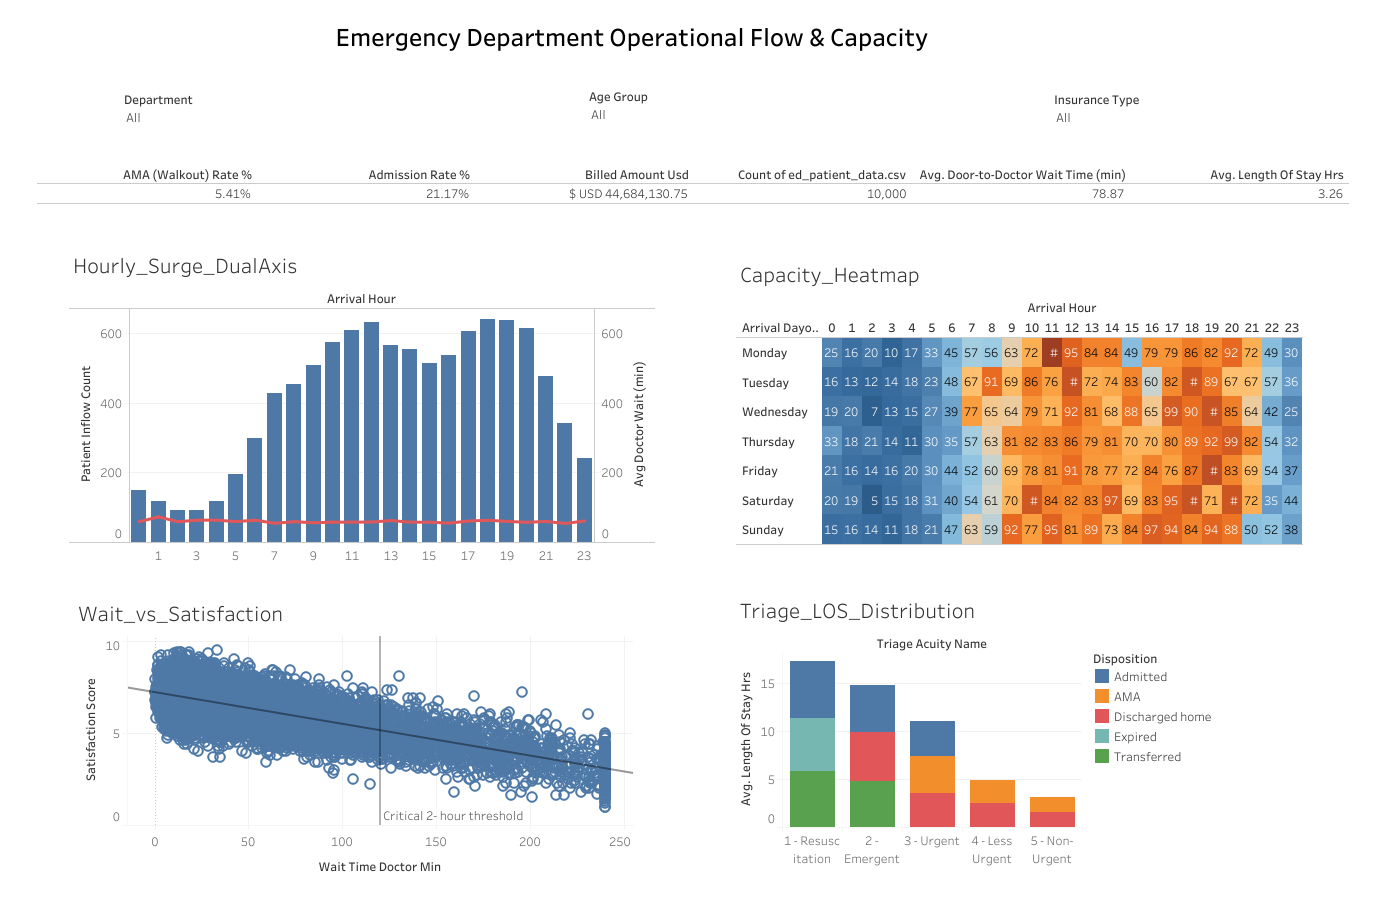

What the dashboard file says about the page in this screenshot:
{"tool":"tableau","page":{"name":"Dashboard 1","canvas":[1400,900],"ordinal":0},"visuals":[{"type":"text","box":[332.5,19,692.8,34.4]},{"type":"filter","title":"Hourly_Surge_DualAxis","param":"[federated.0p64mor01qef4k17tgskb1eeppsd].[none:age_group:nk]","box":[589,86,170,57]},{"type":"filter","title":"Hourly_Surge_DualAxis","param":"[federated.0p64mor01qef4k17tgskb1eeppsd].[none:department:nk]","box":[124,89,170,50]},{"type":"filter","title":"Hourly_Surge_DualAxis","param":"[federated.0p64mor01qef4k17tgskb1eeppsd].[none:insurance_type:nk]","box":[1054,89,174,57]},{"type":"worksheet","title":"KPI_Cards","mark":"Automatic","box":[37,143,1312,62]},{"type":"worksheet","title":"Hourly_Surge_DualAxis","mark":"Bar","rows":["ed_patient_data.csv_2CA3506AF94E4A208D9090729AE92AE6","wait_time_doctor_min"],"cols":["arrival_hour"],"box":[69,245,586,320]},{"type":"worksheet","title":"Capacity_Heatmap","mark":"Square","rows":["arrival_dayofweek"],"cols":["arrival_hour"],"box":[736,254,567,291]},{"type":"worksheet","title":"Triage_LOS_Distribution","mark":"Bar","rows":["length_of_stay_hrs"],"cols":["Calculation_0014611916701711"],"box":[736,590,576,277]},{"type":"worksheet","title":"Wait_vs_Satisfaction","mark":"Automatic","rows":["satisfaction_score"],"cols":["wait_time_doctor_min"],"box":[74,593,559,289]},{"type":"legend","title":"Triage_LOS_Distribution","param":"[federated.0p64mor01qef4k17tgskb1eeppsd].[none:disposition:nk]","box":[1092,647,156,129]}]}

Visuals, with their boxes in screenshot pixels (x1, y1, x2, y2), scaled from the page's 1400x900 canvas onto the 1399x899 screenshot:
text: bbox(332, 19, 1025, 53)
"Hourly_Surge_DualAxis" filter: bbox(589, 86, 758, 143)
"Hourly_Surge_DualAxis" filter: bbox(124, 89, 294, 139)
"Hourly_Surge_DualAxis" filter: bbox(1053, 89, 1227, 146)
"KPI_Cards" worksheet: bbox(37, 143, 1348, 205)
"Hourly_Surge_DualAxis" worksheet (Bar marks): bbox(69, 245, 655, 564)
"Capacity_Heatmap" worksheet (Square marks): bbox(735, 254, 1302, 544)
"Triage_LOS_Distribution" worksheet (Bar marks): bbox(735, 589, 1311, 866)
"Wait_vs_Satisfaction" worksheet: bbox(74, 592, 633, 881)
"Triage_LOS_Distribution" legend: bbox(1091, 646, 1247, 775)
